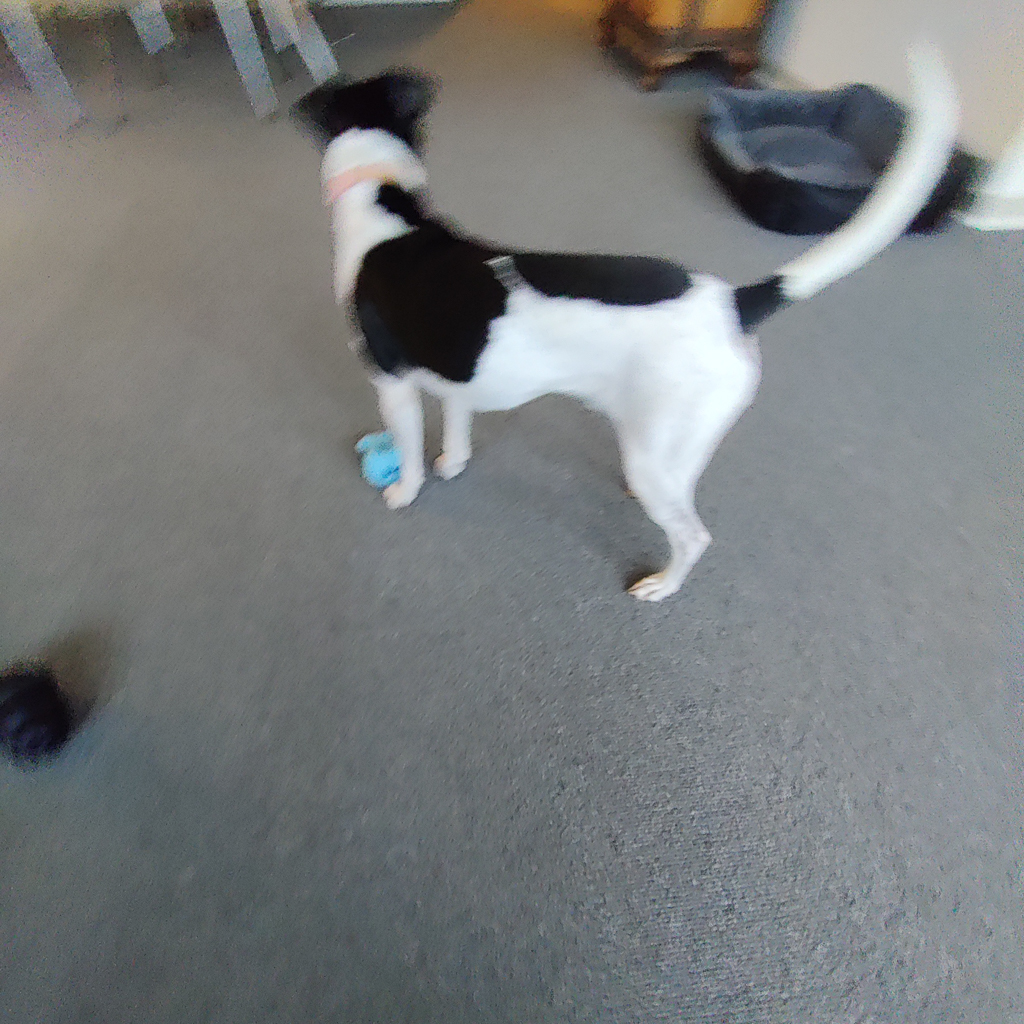Dog: (249, 26, 994, 633)
